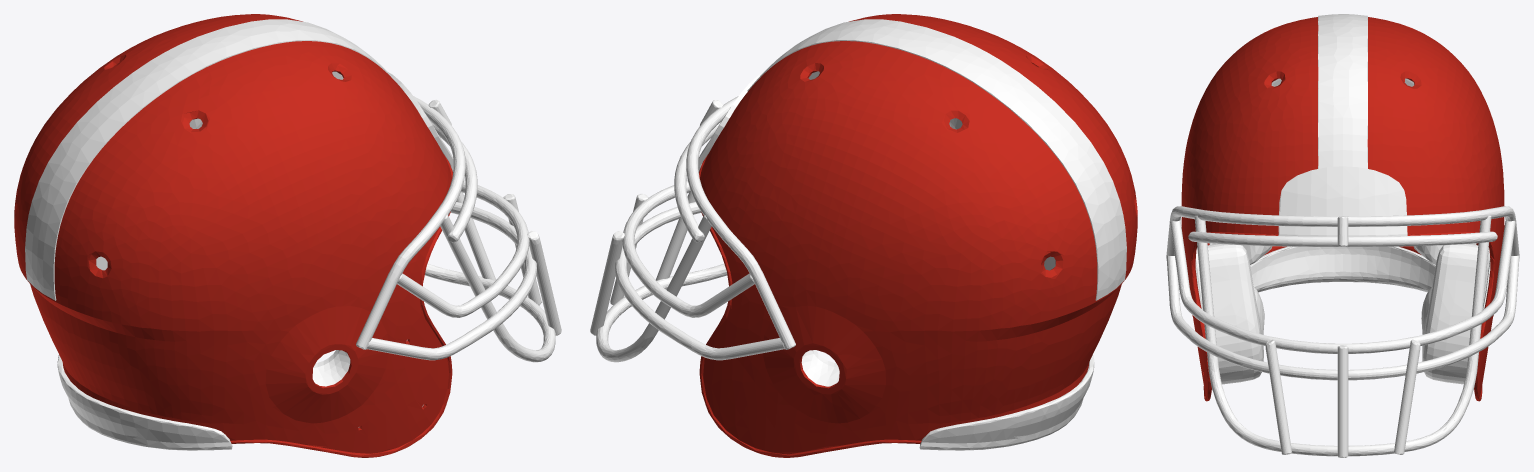
Rendered from f56ff8b5-d192-4c7d-80f3-8b8bfd64b288.glb.
3 renders of one model, left to right at view 1: azimuth 30°, elevation 25°; view 2: azimuth 150°, elevation 25°; view 3: azimuth 270°, elevation 25°, orthographic. The views are drawn at different scales.
Parts seen in each view (by area): view 1: main_helmet, Sweep, Top_strip, Back_neck, side, Face_guard_holder; view 2: main_helmet, Sweep, Top_strip, Back_neck, side, Face_guard_holder; view 3: main_helmet, Sweep, side, Top_strip, Face_guard_holder, Back_neck, back_soft.
Part boxes in pixels (x1,y1,x2,y2): main_helmet: [14, 14, 452, 457]; Sweep: [356, 96, 561, 362]; Top_strip: [25, 19, 404, 300]; Back_neck: [57, 354, 232, 450]; side: [312, 339, 423, 427]; Face_guard_holder: [388, 72, 453, 171]; main_helmet: [699, 14, 1137, 457]; Sweep: [590, 96, 795, 362]; Top_strip: [747, 19, 1126, 300]; Back_neck: [919, 354, 1094, 450]; side: [801, 350, 839, 386]; Face_guard_holder: [698, 72, 763, 171]; main_helmet: [1181, 17, 1504, 401]; Sweep: [1166, 206, 1519, 457]; side: [1195, 244, 1490, 390]; Top_strip: [1318, 14, 1367, 168]; Face_guard_holder: [1278, 166, 1407, 236]; Back_neck: [1250, 246, 1435, 292]; back_soft: [1209, 243, 1476, 264].
Bounding box in the file's own units: 252 × 181 × 176.
